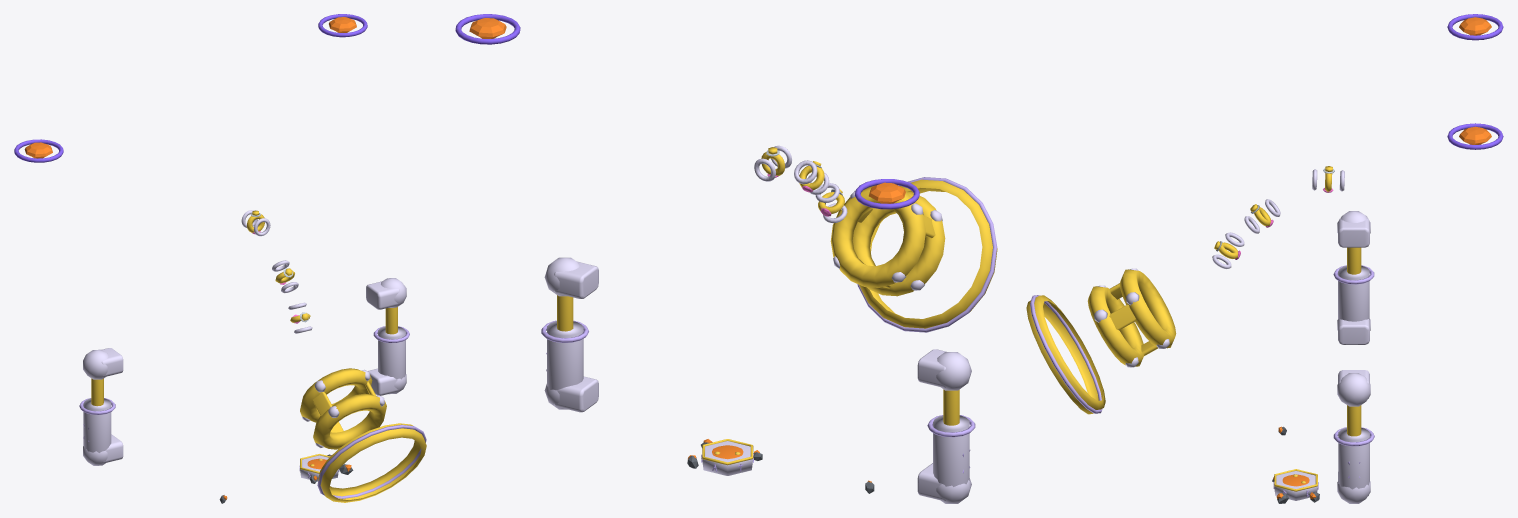
File: LavaPump_T4_Upgrades.fbx
3 renders of one model, left to right at view 1: azimuth 30°, elevation 25°; view 2: azimuth 150°, elevation 25°; view 3: azimuth 270°, elevation 25°, orthographic. The views are drawn at different scales.
Visible parts, largest first — view 1: LavaPumpT4U1Reinforce, LavaPumpT4U3Piston1, LavaPumpT4U3Piston2, LavaPumpT4U1Clamps, LavaPumpT4U1ReinforceGlow, LavaPumpT4U2Lamp1Glow, LavaPumpT4U2Lamp2Glow; view 2: LavaPumpT4U1Reinforce, LavaPumpT4U3Piston2, LavaPumpT4U3Piston1, LavaPumpT4U1Clamps, LavaPumpT4U2Lamp2Glow, LavaPumpT4U2Lamp1Glow, LavaPumpT4U1ReinforceGlow, LavaPumpT4U5Fountain; view 3: LavaPumpT4U1Reinforce, LavaPumpT4U3Piston1, LavaPumpT4U3Piston2, LavaPumpT4U1Clamps, LavaPumpT4U1ReinforceGlow, LavaPumpT4U2Lamp2Glow, LavaPumpT4U2Lamp1Glow, LavaPumpT4U5Fountain.
Part boxes in pixels (left/top/right/bottom): LavaPumpT4U1Reinforce: left=300, top=368, right=426, bottom=502; LavaPumpT4U3Piston1: left=83, top=348, right=123, bottom=465; LavaPumpT4U3Piston2: left=366, top=278, right=406, bottom=395; LavaPumpT4U1Clamps: left=241, top=210, right=312, bottom=333; LavaPumpT4U1ReinforceGlow: left=317, top=424, right=426, bottom=498; LavaPumpT4U2Lamp1Glow: left=14, top=139, right=63, bottom=162; LavaPumpT4U2Lamp2Glow: left=318, top=14, right=367, bottom=37; LavaPumpT4U1Reinforce: left=830, top=179, right=997, bottom=328; LavaPumpT4U3Piston2: left=544, top=257, right=598, bottom=412; LavaPumpT4U3Piston1: left=917, top=349, right=971, bottom=503; LavaPumpT4U1Clamps: left=754, top=145, right=847, bottom=223; LavaPumpT4U2Lamp2Glow: left=455, top=14, right=520, bottom=44; LavaPumpT4U2Lamp1Glow: left=855, top=179, right=919, bottom=209; LavaPumpT4U1ReinforceGlow: left=857, top=177, right=997, bottom=332; LavaPumpT4U5Fountain: left=702, top=439, right=753, bottom=475; LavaPumpT4U1Reinforce: left=1026, top=268, right=1176, bottom=414; LavaPumpT4U3Piston1: left=1337, top=211, right=1370, bottom=344; LavaPumpT4U3Piston2: left=1337, top=370, right=1370, bottom=503; LavaPumpT4U1Clamps: left=1212, top=166, right=1344, bottom=269; LavaPumpT4U1ReinforceGlow: left=1030, top=295, right=1102, bottom=413; LavaPumpT4U2Lamp2Glow: left=1447, top=123, right=1503, bottom=149; LavaPumpT4U2Lamp1Glow: left=1447, top=14, right=1503, bottom=40; LavaPumpT4U5Fountain: left=1274, top=469, right=1317, bottom=500.
Bounding box in the file's own units: 425 × 434 × 448.
